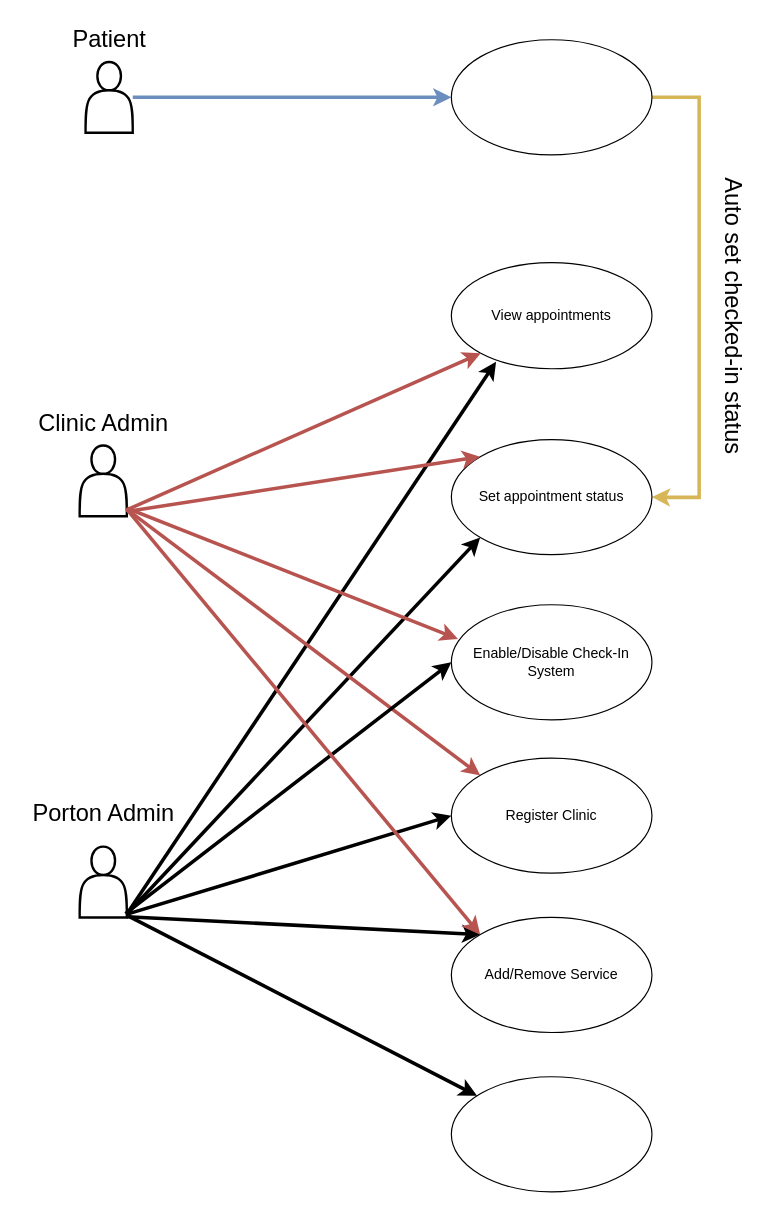
Image size: 772x1212. Some labels were removed from this diagram. The shapes that lost their labels are listed below. From the top down, each one's box as (x1, y1, x2, y2) in pixels, then its label:
(450, 39, 652, 155): Check-In - Provide age/address - Confirmation of info/appt
(450, 1076, 652, 1192): Assign Roles
